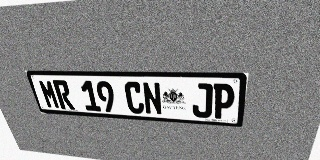1: (79, 80, 101, 111)
9: (95, 81, 117, 112)
C: (123, 81, 145, 114)
J: (192, 83, 213, 118)
M: (37, 80, 61, 109)
N: (142, 82, 163, 115)
P: (212, 83, 235, 119)
R: (52, 80, 75, 110)
